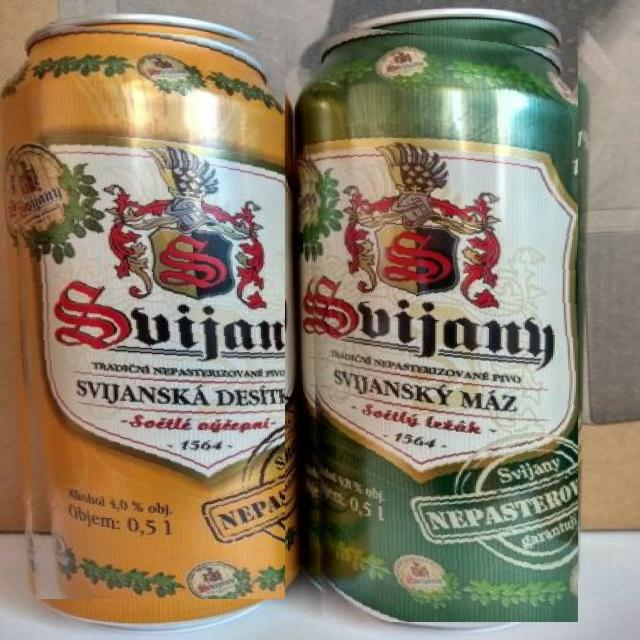Cans: (304, 21, 578, 622), (6, 20, 285, 599)
